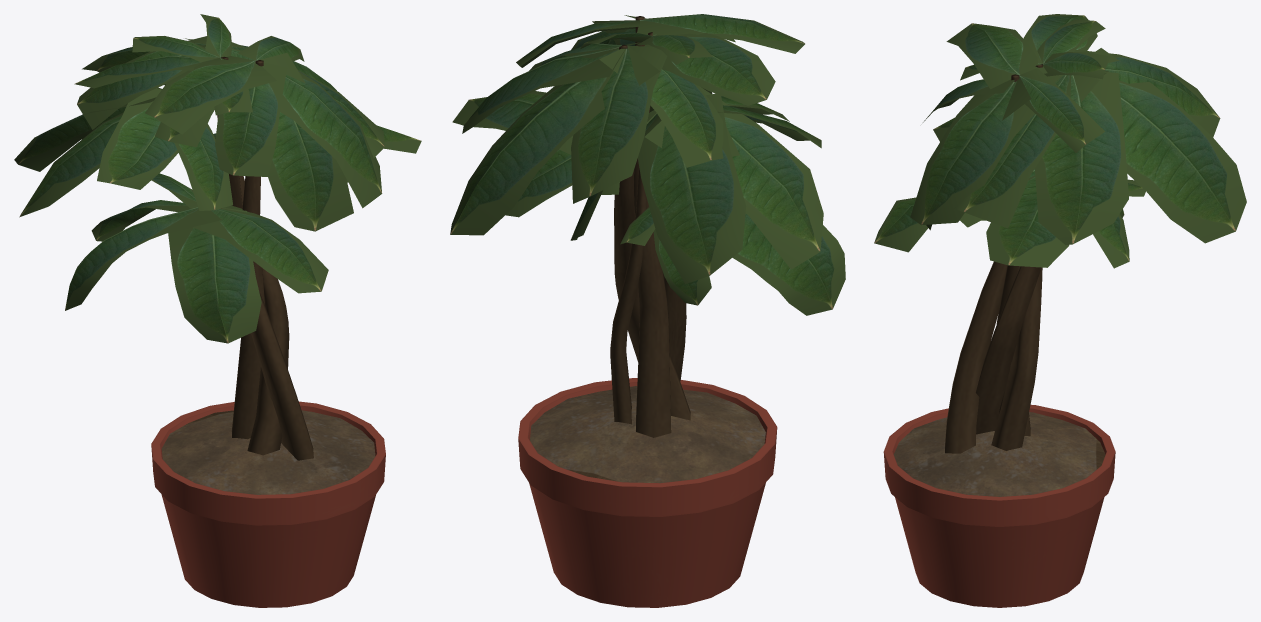
File: plantearbre.glb
3 views of the same model, side by side, from view 1: azimuth 30°, elevation 25°; view 2: azimuth 150°, elevation 25°; view 3: azimuth 270°, elevation 25° (orthographic). The views are drawn at different scales.
Parts seen in each view (by area): view 1: eb_house_plant_03; view 2: eb_house_plant_03; view 3: eb_house_plant_03.
Part boxes in pixels (x1,y1,x2,y2): eb_house_plant_03: [14, 14, 421, 607]; eb_house_plant_03: [450, 14, 845, 607]; eb_house_plant_03: [874, 14, 1246, 607].
Size of the model in its own units: 36.82 by 50.88 by 33.57.
Materials: 1 (1 with a texture image).
